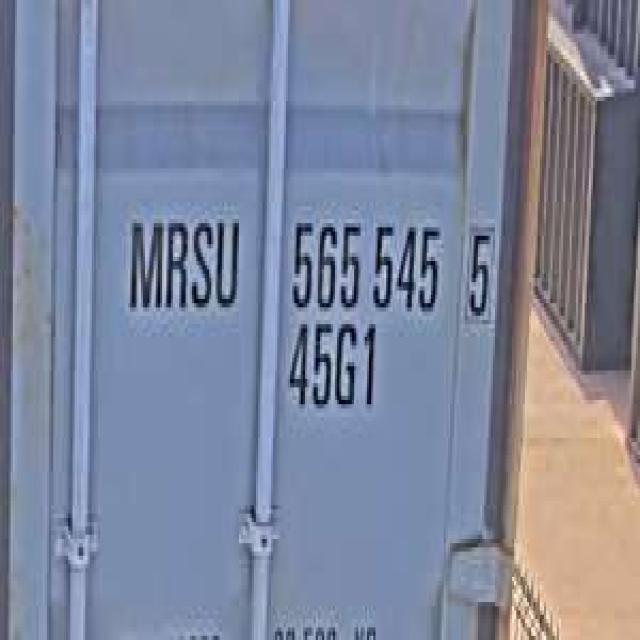dv: (461, 211, 497, 324)
owner: (120, 198, 243, 324)
serial: (286, 202, 444, 320)
size: (284, 312, 379, 421)
